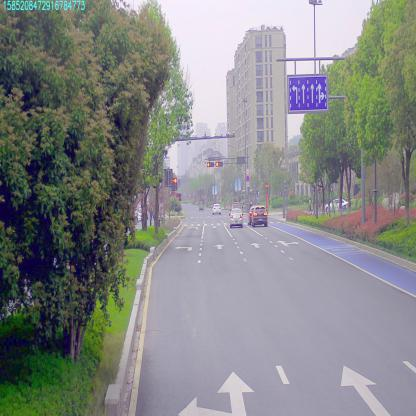traffic-light: (206, 161, 214, 168), (216, 161, 224, 167)
